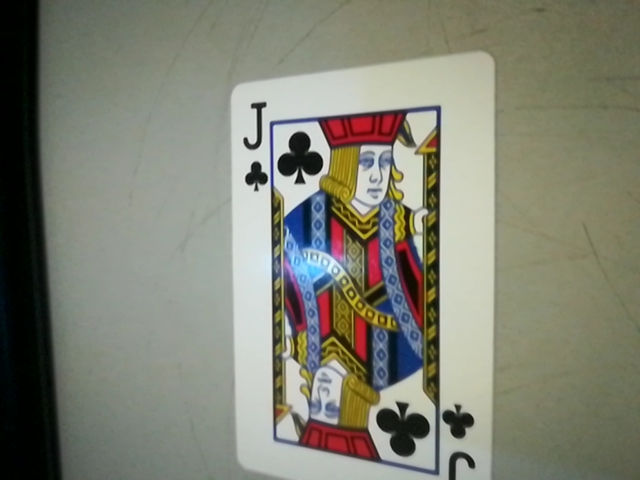mh j: (234, 92, 276, 193)
